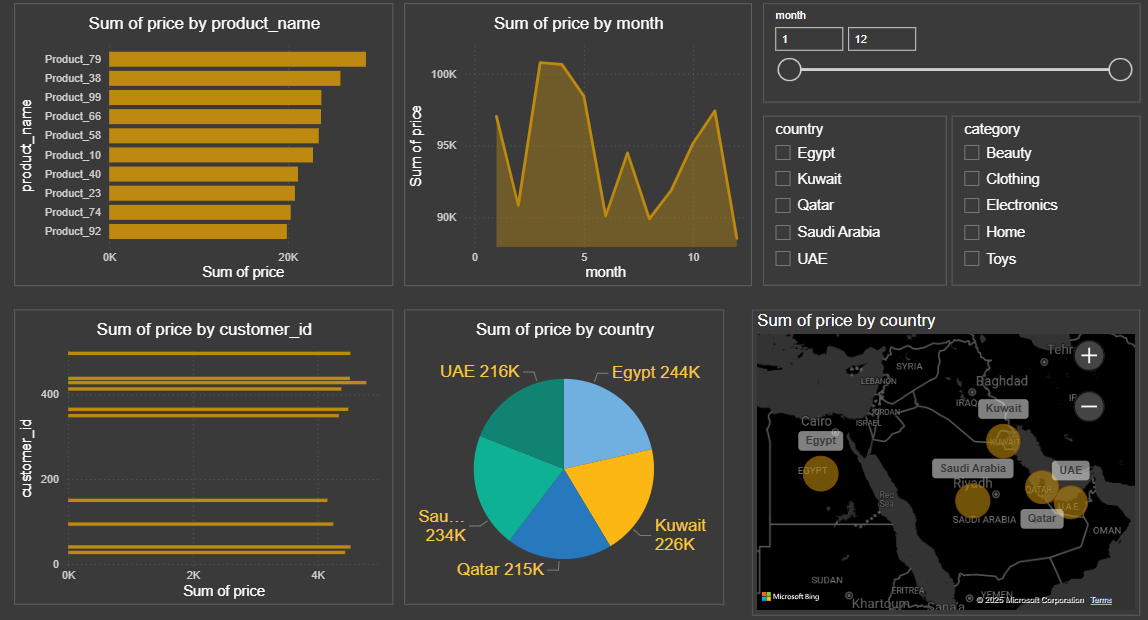

This screenshot's page, from the dashboard's own definition file:
{"tool":"powerbi","page":{"name":"Page 1","canvas":[1280,720],"ordinal":0},"visuals":[{"type":"areaChart","title":"Monthly Sales Trend","fields":{"Category":["orders_clean.month"],"Y":["Sum(orders_clean.price)"]},"box":[456.9,23.3,381.5,310.1],"z":0},{"type":"barChart","title":"Top 10 Best-Selling Products","fields":{"Category":["orders_clean.product_name"],"Y":["Sum(orders_clean.price)"]},"box":[28.8,23.3,415.8,310.1],"z":1000},{"type":"barChart","title":"Top 10 Customers by Spending","fields":{"Category":["orders_clean.customer_id"],"Y":["Sum(orders_clean.price)"]},"box":[28.8,359.5,415.8,323.8],"z":2000},{"type":"pieChart","title":"Sales Distribution by Country","fields":{"Series":["orders_clean.country"],"Y":["Sum(orders_clean.price)"]},"box":[456.9,359.5,351.3,323.8],"z":3000},{"type":"map","title":"Interactive Map of Sales by Country","fields":{"Category":["orders_clean.country"],"Size":["Sum(orders_clean.price)"]},"box":[838.4,359.5,426.8,336.2],"z":4000},{"type":"slicer","fields":{"Values":["orders_clean.month"]},"box":[850.8,23.3,414.4,108.4],"z":5000},{"type":"slicer","fields":{"Values":["orders_clean.country"]},"box":[850.8,146.8,201.7,186.6],"z":6000},{"type":"slicer","fields":{"Values":["orders_clean.category"]},"box":[1058,146.8,207.2,186.6],"z":7000}]}

Visuals, with their boxes on the page's 1280x720 design canvas (x1, y1, x2, y2). These are canvas units, not pixel positions in the 1148x620 screenshot, which may show the page scaled, cropped or inside an application window:
"Monthly Sales Trend" areaChart: (457, 23, 838, 333)
"Top 10 Best-Selling Products" barChart: (29, 23, 445, 333)
"Top 10 Customers by Spending" barChart: (29, 360, 445, 683)
"Sales Distribution by Country" pieChart: (457, 360, 808, 683)
"Interactive Map of Sales by Country" map: (838, 360, 1265, 696)
slicer - orders_clean.month: (851, 23, 1265, 132)
slicer - orders_clean.country: (851, 147, 1052, 333)
slicer - orders_clean.category: (1058, 147, 1265, 333)
